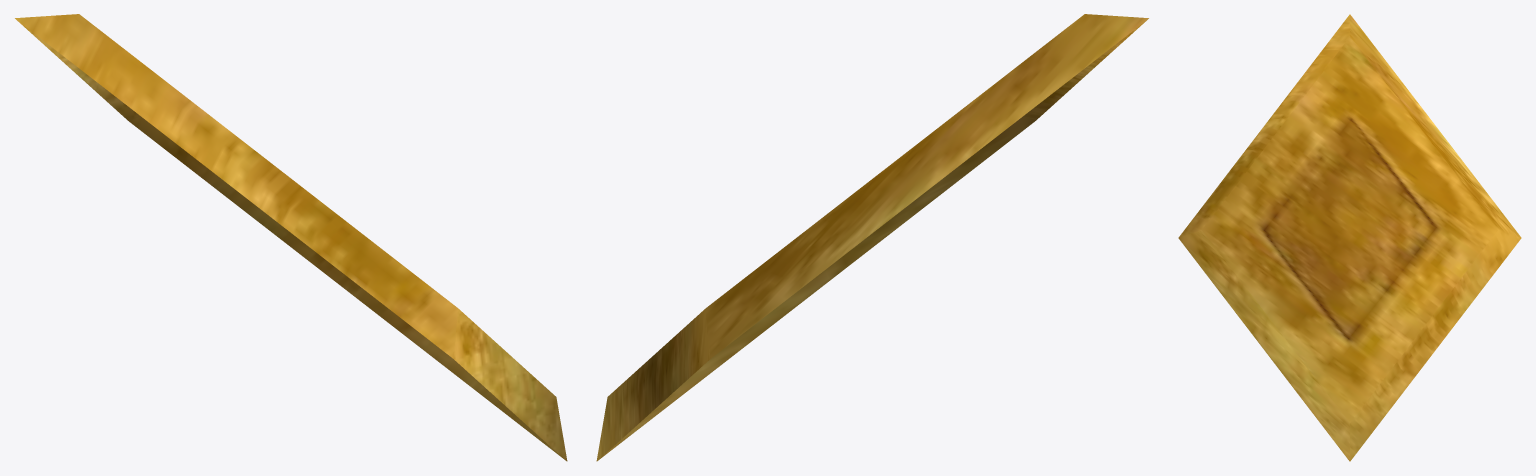
3 renders of one model, left to right at view 1: azimuth 30°, elevation 25°; view 2: azimuth 150°, elevation 25°; view 3: azimuth 270°, elevation 25°, orthographic. The views are drawn at different scales.
Parts seen in each view (by area): view 1: SM_Dragonkin_Pipe_Union_02_v2_LOD0; view 2: SM_Dragonkin_Pipe_Union_02_v2_LOD0; view 3: SM_Dragonkin_Pipe_Union_02_v2_LOD0.
Part boxes in pixels (x1,y1,x2,y2): SM_Dragonkin_Pipe_Union_02_v2_LOD0: (15,14,567,461); SM_Dragonkin_Pipe_Union_02_v2_LOD0: (596,14,1148,461); SM_Dragonkin_Pipe_Union_02_v2_LOD0: (1178,14,1521,461).
Bounding box in the file's own units: 0.6711 × 0.6711 × 0.6836.
Materials: 1 (1 with a texture image).
